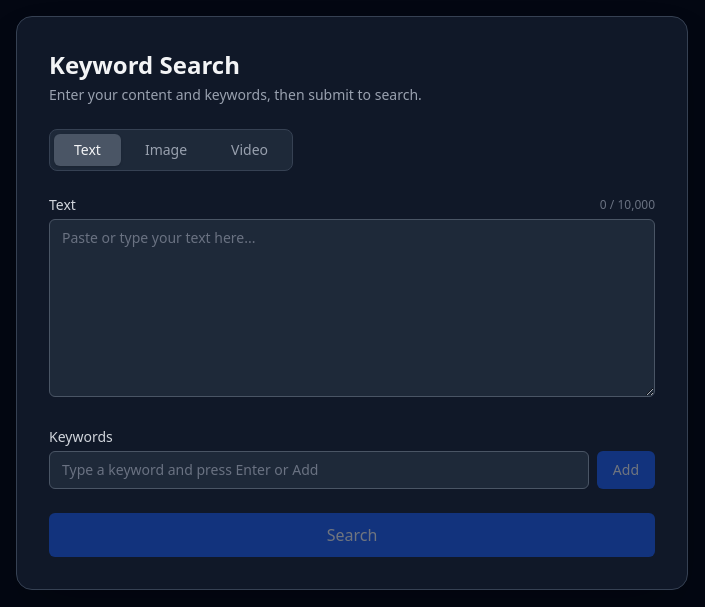
Test: App › type switching › shows file upload zone when Video tab is selected
The image size is (705, 607).
Click the button "Video".
click(250, 150)  # box [211,134,288,166]
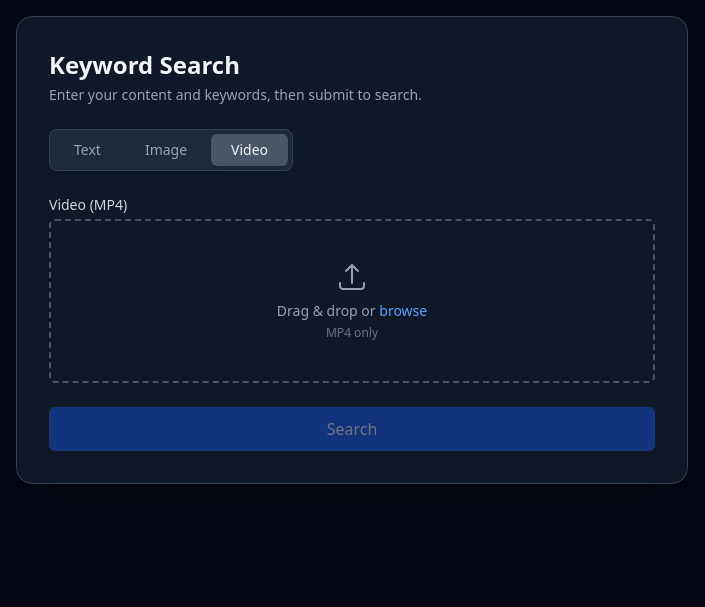
Expected: the text "Drag & drop or browse" is shown, [277,301,427,321]
